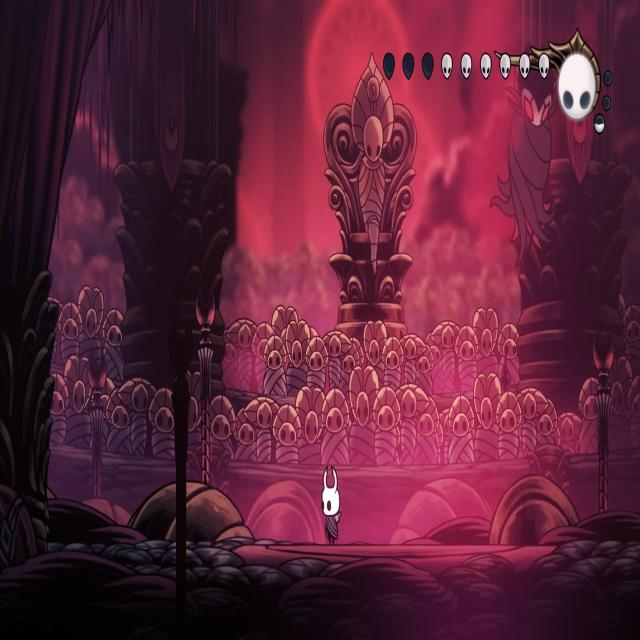Dive Dash: (503, 50, 563, 267)
Player: (318, 459, 343, 546)
